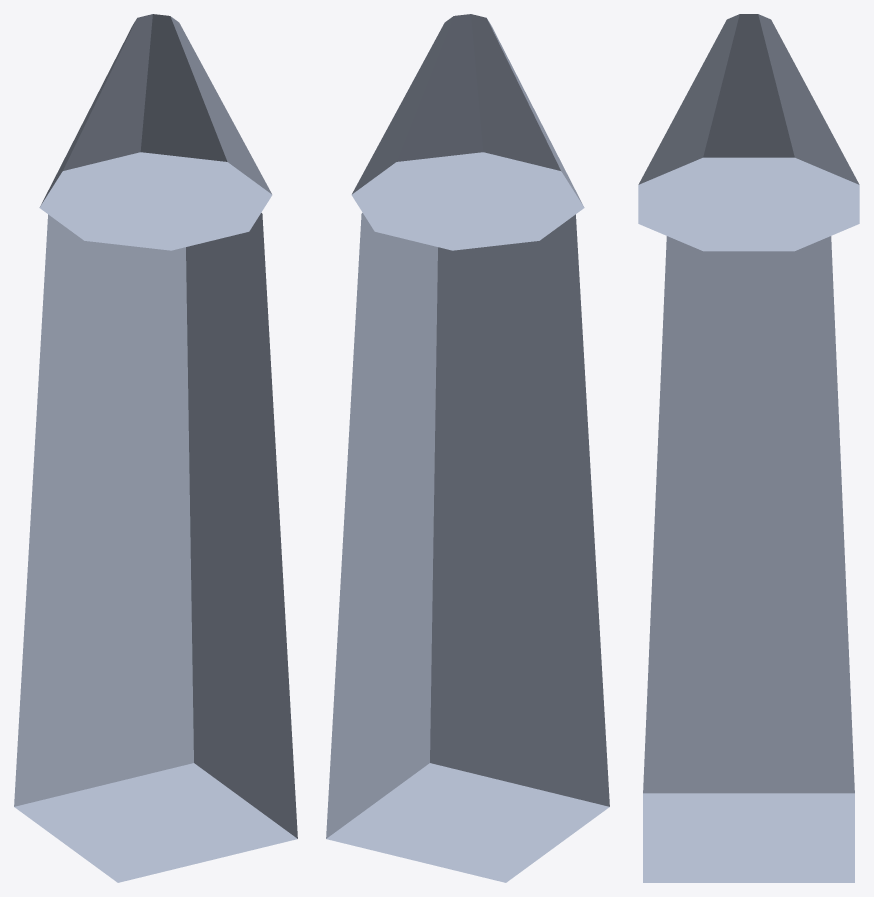
The model's file is seed-tower.glb.
3 renders of one model, left to right at view 1: azimuth 30°, elevation 25°; view 2: azimuth 150°, elevation 25°; view 3: azimuth 270°, elevation 25°, orthographic.
Size of the model in its own units: 222 by 900 by 222.
